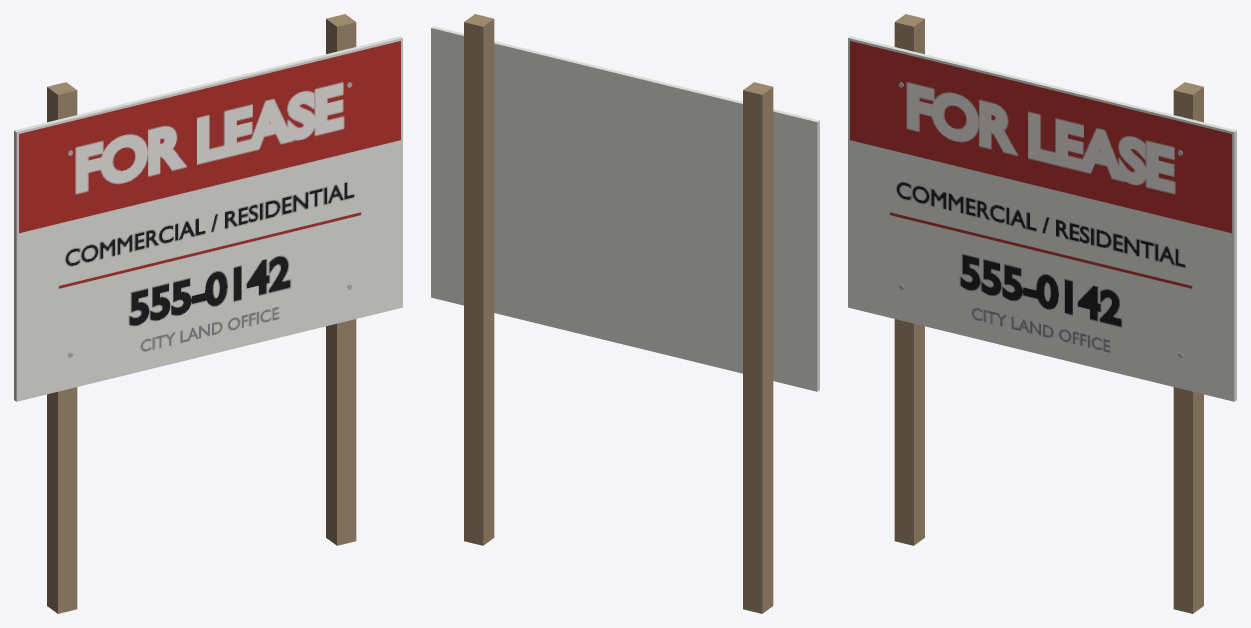
File: lease_sign.glb
3 views of the same model, side by side, from view 1: azimuth 30°, elevation 25°; view 2: azimuth 150°, elevation 25°; view 3: azimuth 330°, elevation 25° (orthographic).
Visible parts, largest first — view 1: Poster_0, lease_sign_body; view 2: lease_sign_body; view 3: Poster_0, lease_sign_body.
Boxes of the visible parts, left/top/right/bottom form: Poster_0: left=19, top=41, right=400, bottom=398; lease_sign_body: left=14, top=14, right=402, bottom=613; lease_sign_body: left=431, top=14, right=819, bottom=613; Poster_0: left=850, top=41, right=1231, bottom=398; lease_sign_body: left=848, top=14, right=1236, bottom=613.
Size of the model in its own units: 0.09 by 0.1155 by 0.00575.
2 materials, 2 textured.
